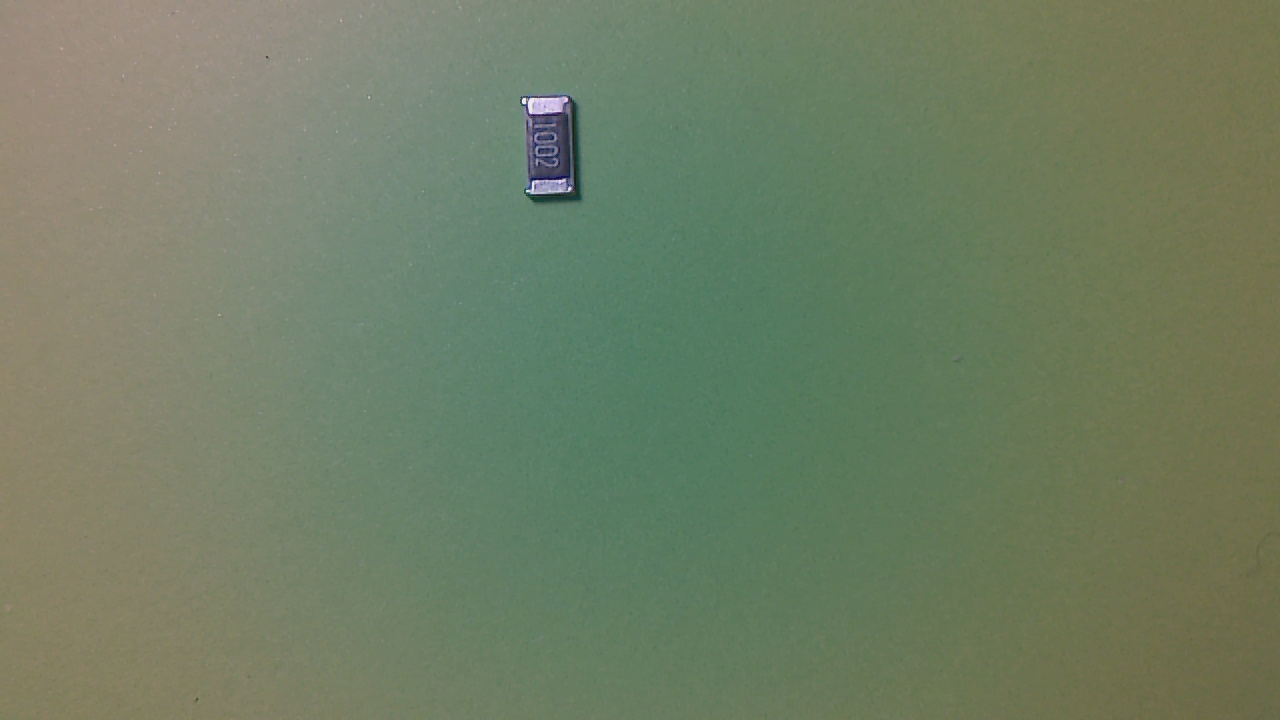Resistor: (521, 93, 587, 214)
